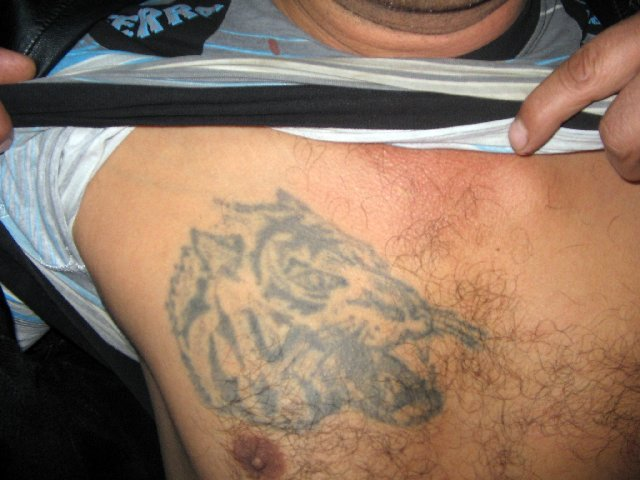tatu5_tigr: (166, 188, 481, 433)
